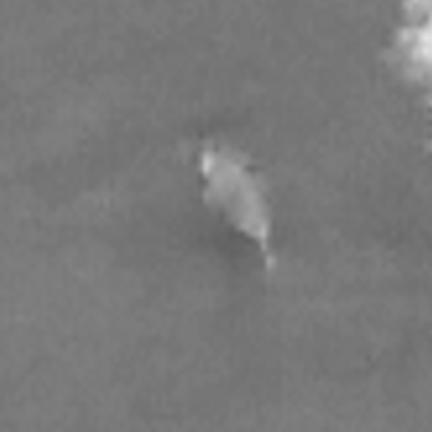flukeprints: (397, 0, 431, 105)
